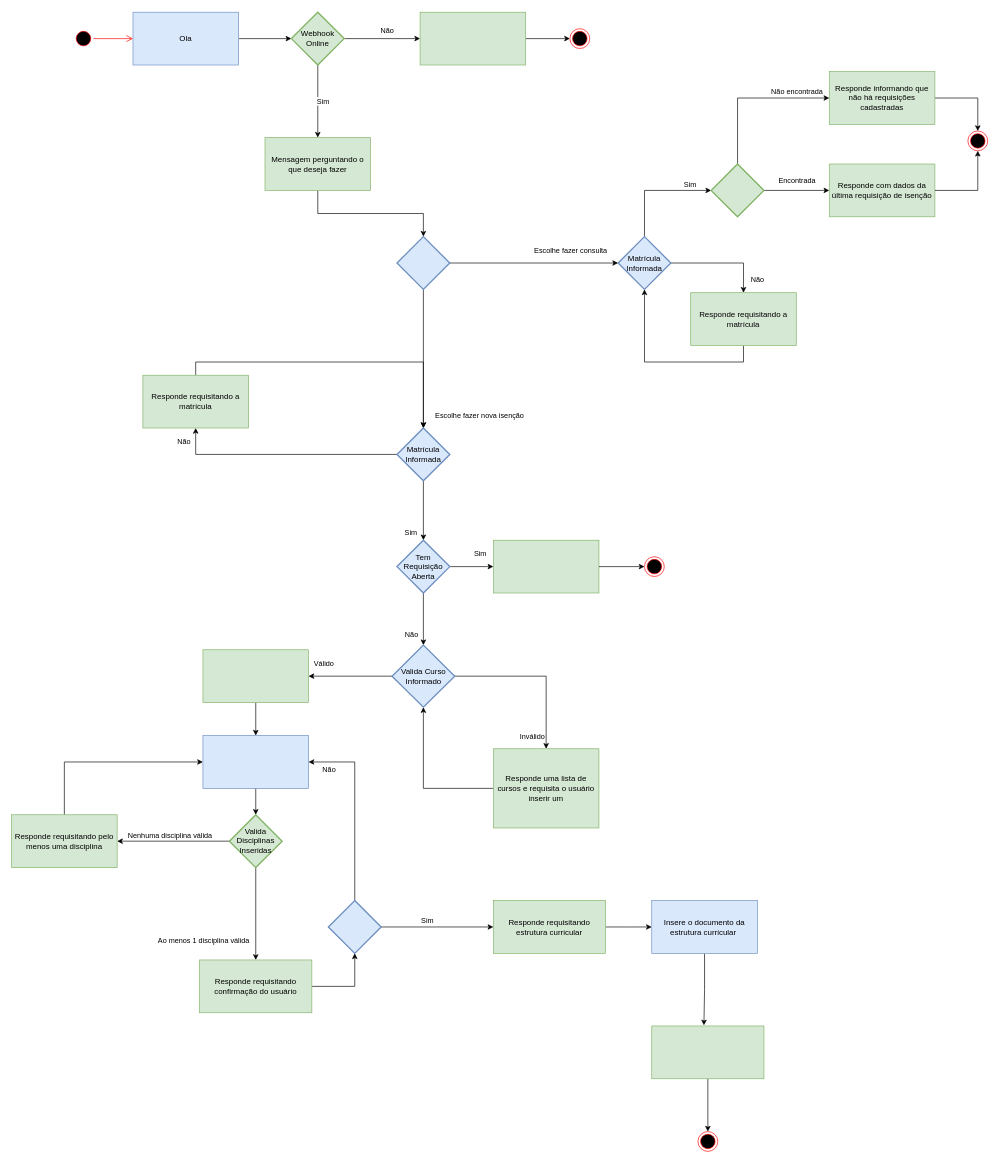
This 999x1163 diagram has some shape labels left out. The box of each missing label's shape, as (x1, y1, x2, y2) in pixels:
Busca Requisição: (710, 163, 764, 217)
Confirma: (327, 900, 381, 954)
Insere lista com zero ou mais disciplinas para isentar: (202, 735, 309, 788)
Mensagem informando fora do ar (padrão): (419, 12, 526, 65)
Opção Escolhida: (396, 236, 450, 290)
Responde com mensagem de envio com sucesso: (651, 1025, 764, 1079)
Responde que não é possível requisitar outra isenção com uma já aberta: (493, 540, 599, 593)
Responde uma lista de disciplinas do curso: (202, 649, 309, 703)
